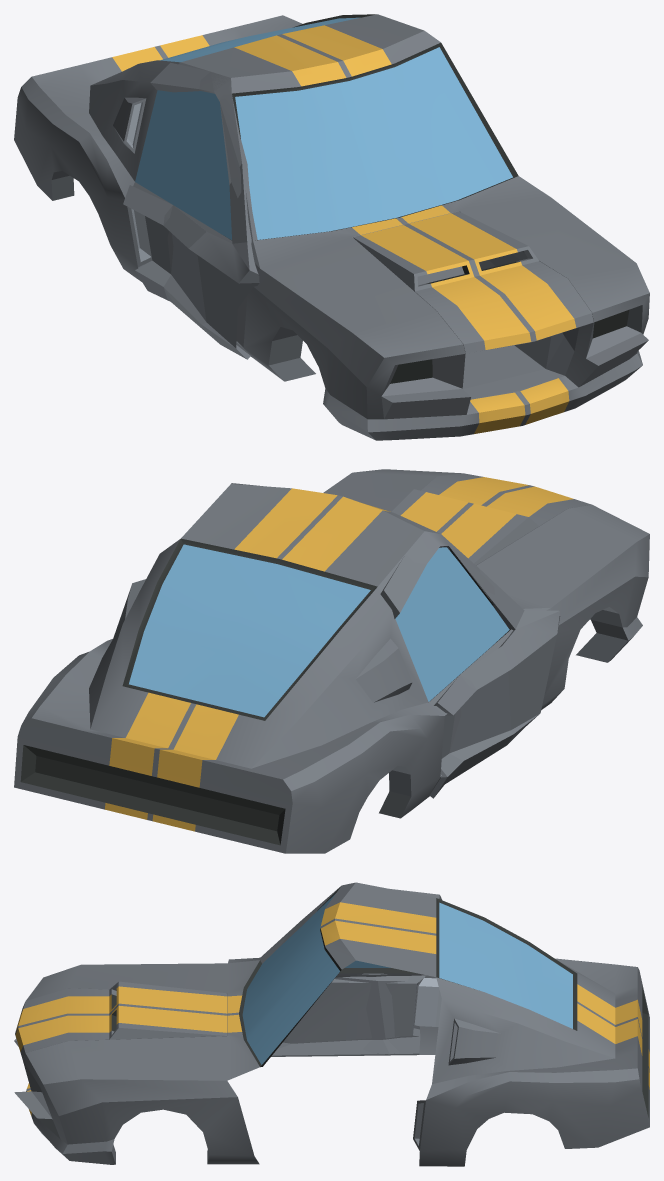
Rendered from macchina_grigia.fbx.
3 renders of one model, top to bottom at view 1: azimuth 30°, elevation 25°; view 2: azimuth 150°, elevation 25°; view 3: azimuth 270°, elevation 25°, orthographic. The views are drawn at different scales.
Parts seen in each view (by area): view 1: scocca_1, cofano_1, porta_rotta_1, porta_nuova_1; view 2: scocca_1, porta_rotta_1, porta_nuova_1, cofano_1; view 3: scocca_1, cofano_1, porta_nuova_1, porta_rotta_1.
Boxes of the visible parts, box(x1,y1,x2,y2) form: scocca_1: box(14, 14, 649, 440); cofano_1: box(353, 211, 593, 353); porta_rotta_1: box(123, 62, 259, 359); porta_nuova_1: box(133, 62, 259, 357); scocca_1: box(14, 469, 649, 853); porta_rotta_1: box(380, 531, 560, 798); porta_nuova_1: box(378, 531, 551, 797); cofano_1: box(391, 473, 591, 565); scocca_1: box(14, 882, 649, 1166); cofano_1: box(15, 981, 226, 1059); porta_nuova_1: box(260, 935, 425, 1056); porta_rotta_1: box(228, 887, 441, 1055).
Bounding box in the file's own units: 207 × 141 × 424.
